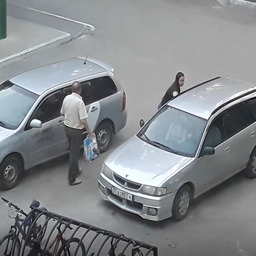person: (60, 80, 97, 186), (157, 71, 186, 111)
